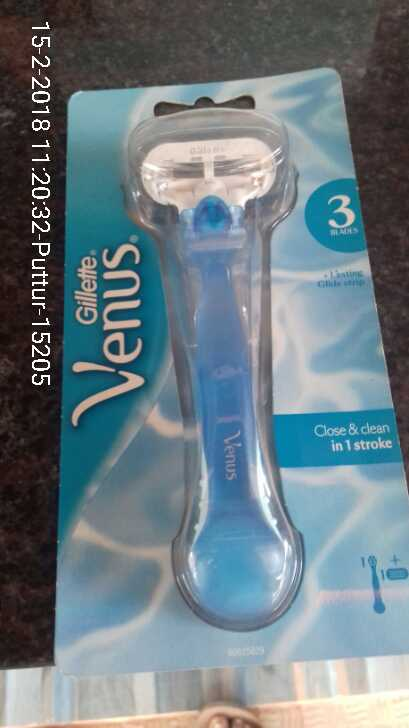venus: (56, 89, 409, 647)
